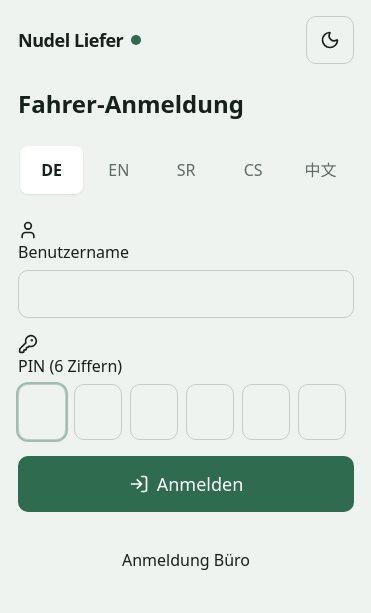
driver login › blocks a short PIN client-side with a localized inline error (F1) and never calls the action
Type "fahrer-de" into the field labelled "Benutzername" at point(186, 294), box [18,270,354,318]
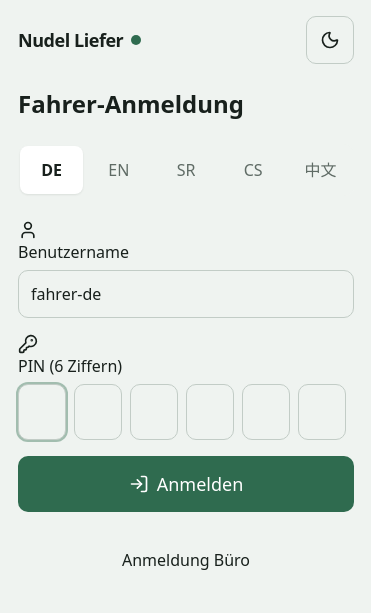
Type "123" into the password field named "pin" at point(182, 412), box [18,384,346,440]
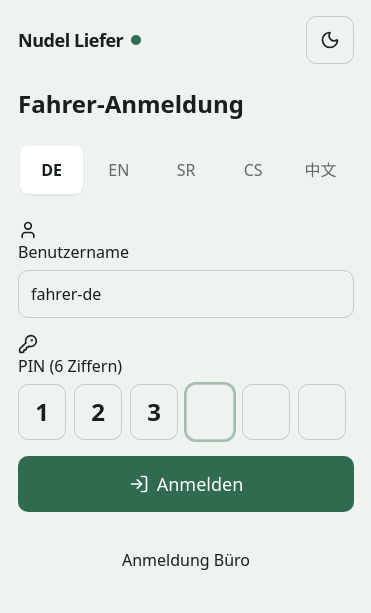
Submit the form with test id "driver-login-form", box [18,220,354,512]
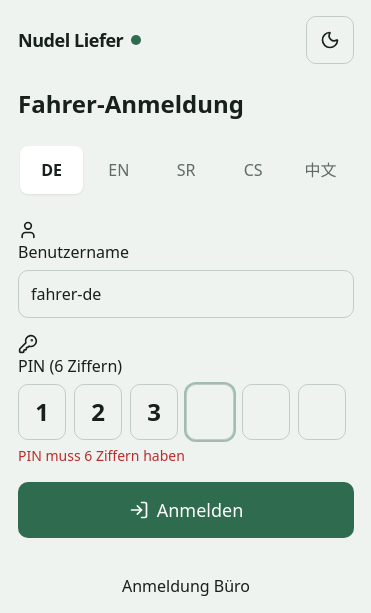
Expected: the text "PIN muss 6 Ziffern haben" is shown, [18,446,185,465]
